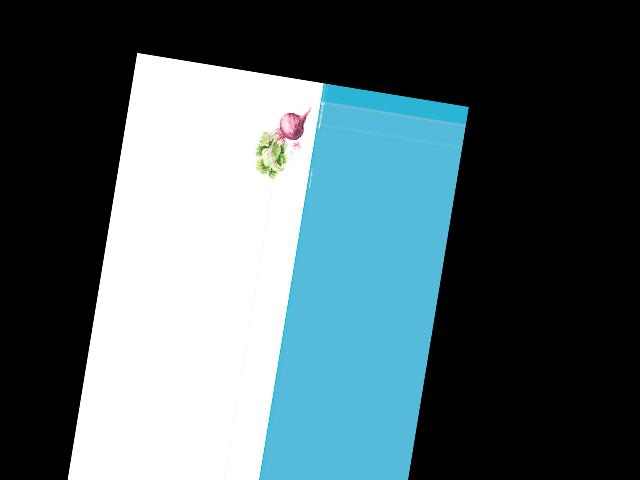beet: (252, 100, 311, 183)
